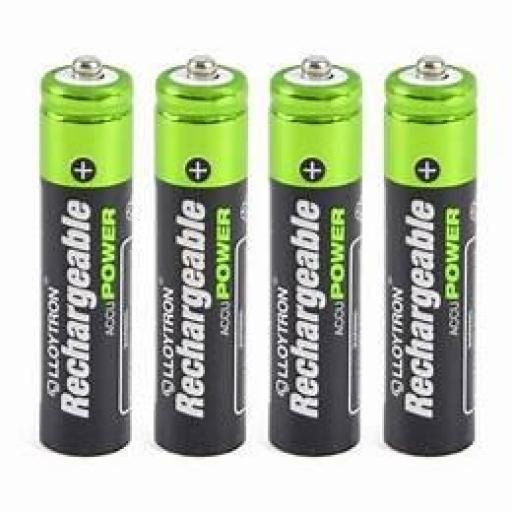battery: (150, 53, 249, 455), (266, 49, 362, 459), (382, 55, 479, 457), (38, 55, 134, 458)
